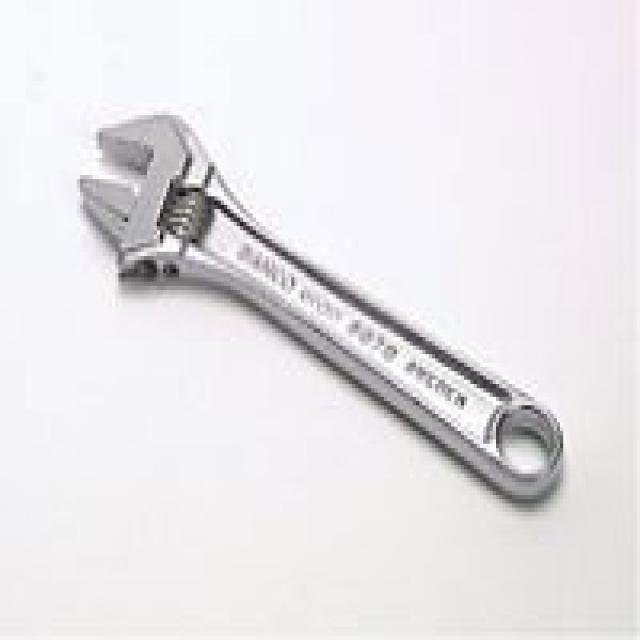wrench: (71, 104, 574, 511)
